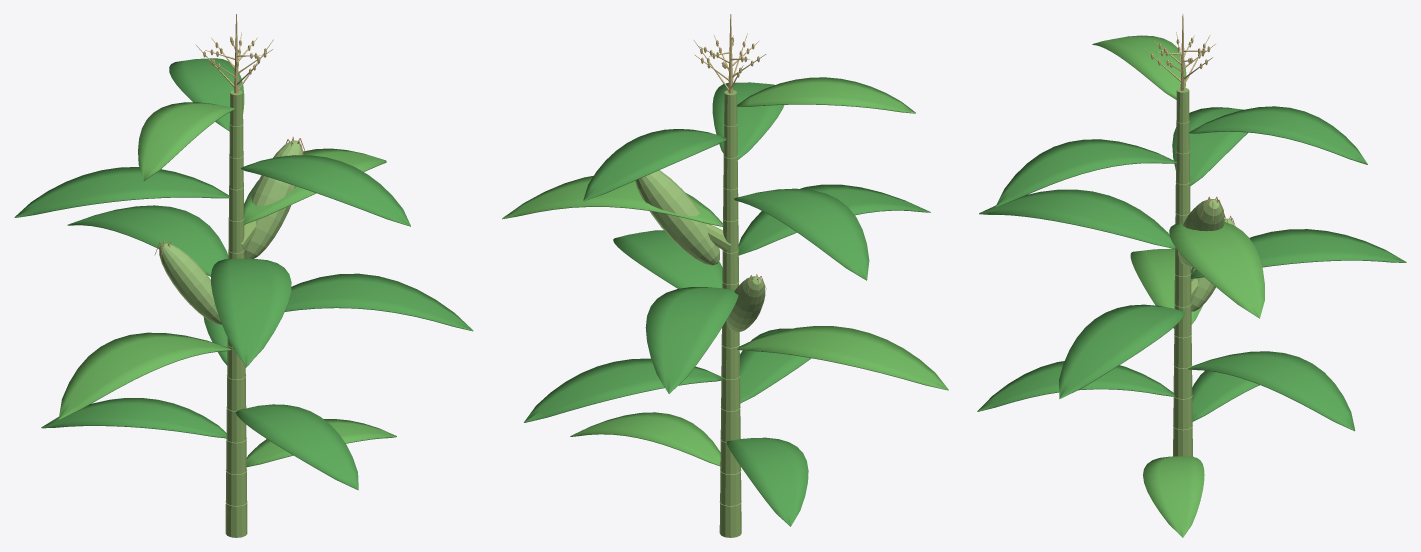
3 renders of one model, left to right at view 1: azimuth 30°, elevation 25°; view 2: azimuth 150°, elevation 25°; view 3: azimuth 270°, elevation 25°, orthographic. The views are drawn at different scales.
Visible parts, largest first — view 1: 叶片_08, 叶片_05, 叶片_06, 叶片_10, 叶片_03, 叶片_11, 叶片_07, 叶片_02, 叶片_13, 叶片_12, 雌穗_下_苞叶包裹果穗, 雌穗_上_苞叶包裹果穗 (+7 smaller); view 2: 叶片_07, 叶片_05, 叶片_10, 叶片_04, 叶片_02, 叶片_12, 叶片_13, 雌穗_上_苞叶包裹果穗, 叶片_06, 叶片_01, 叶片_09, 叶片_08 (+9 smaller); view 3: 叶片_06, 叶片_08, 叶片_09, 叶片_04, 叶片_11, 叶片_12, 叶片_07, 叶片_01, 叶片_03, 叶片_13, 叶片_10, 叶片_05 (+8 smaller).
Part boxes in pixels (left/top/right/bottom): 叶片_08: left=211, top=258, right=291, bottom=366; 叶片_05: left=58, top=332, right=231, bottom=419; 叶片_06: left=285, top=273, right=473, bottom=331; 叶片_10: left=14, top=167, right=229, bottom=217; 叶片_03: left=235, top=404, right=358, bottom=490; 叶片_11: left=241, top=155, right=410, bottom=226; 叶片_07: left=67, top=205, right=228, bottom=276; 叶片_02: left=41, top=398, right=226, bottom=438; 叶片_13: left=138, top=102, right=234, bottom=180; 叶片_12: left=169, top=58, right=244, bottom=131; 雌穗_下_苞叶包裹果穗: left=159, top=243, right=221, bottom=324; 雌穗_上_苞叶包裹果穗: left=244, top=140, right=303, bottom=258; 叶片_07: left=645, top=287, right=738, bottom=393; 叶片_05: left=737, top=326, right=948, bottom=390; 叶片_10: left=733, top=188, right=869, bottom=280; 叶片_04: left=524, top=358, right=724, bottom=422; 叶片_02: left=726, top=437, right=808, bottom=526; 叶片_12: left=583, top=129, right=727, bottom=201; 叶片_13: left=737, top=77, right=915, bottom=113; 雌穗_上_苞叶包裹果穗: left=635, top=170, right=719, bottom=265; 叶片_06: left=613, top=230, right=722, bottom=288; 叶片_01: left=570, top=412, right=720, bottom=466; 叶片_09: left=502, top=176, right=722, bottom=226; 叶片_08: left=738, top=184, right=930, bottom=255; 叶片_06: left=1059, top=304, right=1184, bottom=398; 叶片_08: left=979, top=189, right=1175, bottom=248; 叶片_09: left=1169, top=222, right=1264, bottom=318; 叶片_04: left=1188, top=351, right=1355, bottom=431; 叶片_11: left=995, top=139, right=1177, bottom=206; 叶片_12: left=1188, top=106, right=1367, bottom=164; 叶片_07: left=1191, top=229, right=1406, bottom=278; 叶片_01: left=1143, top=456, right=1204, bottom=537; 叶片_03: left=977, top=361, right=1174, bottom=411; 叶片_13: left=1092, top=35, right=1186, bottom=99; 叶片_10: left=1172, top=107, right=1247, bottom=185; 叶片_05: left=1130, top=248, right=1202, bottom=328.
Bounding box in the file's own units: 1.87 × 2.4 × 1.86.
